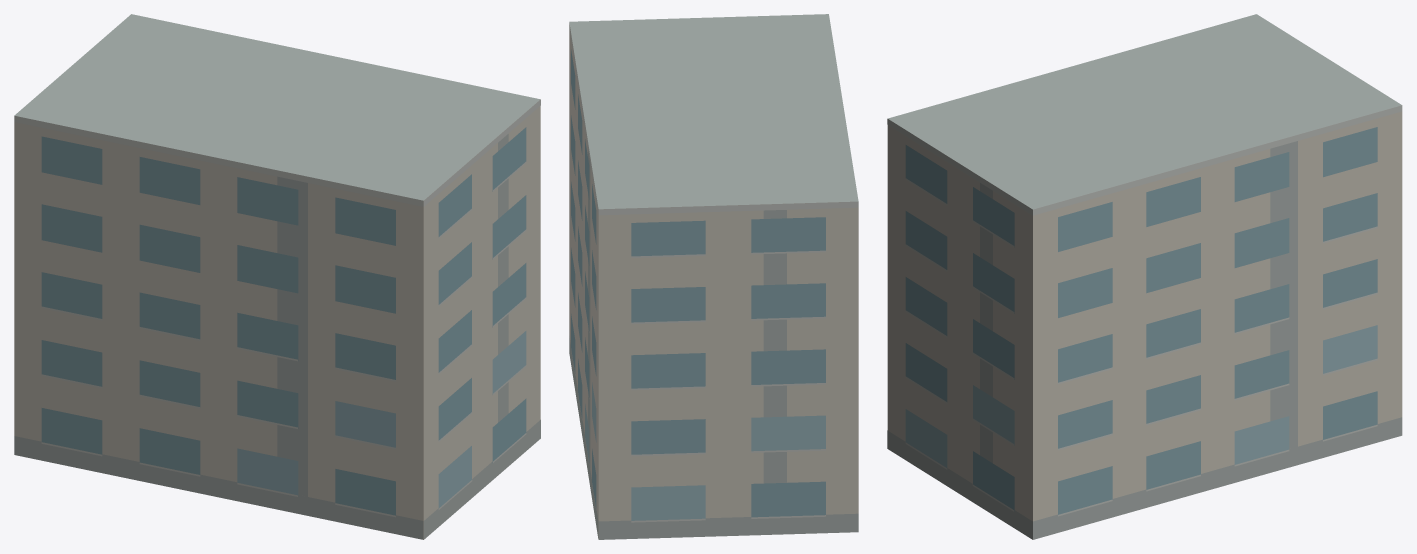
Rendered from survey-upis-32950679.glb.
3 renders of one model, left to right at view 1: azimuth 30°, elevation 25°; view 2: azimuth 150°, elevation 25°; view 3: azimuth 270°, elevation 25°, orthographic. The views are drawn at different scales.
Visible parts, largest first — view 1: survey-upis-32950679.tmp; view 2: survey-upis-32950679.tmp; view 3: survey-upis-32950679.tmp.
Part boxes in pixels (left/top/right/bottom): survey-upis-32950679.tmp: left=14, top=14, right=540, bottom=539; survey-upis-32950679.tmp: left=569, top=14, right=858, bottom=539; survey-upis-32950679.tmp: left=887, top=14, right=1402, bottom=539.
Bounding box in the file's own units: 16.65 × 13.1 × 18.51.
